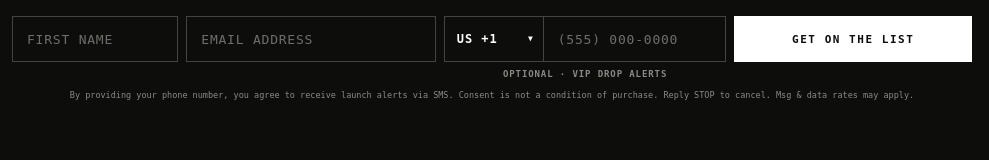
LeadForm › formats the mobile as it is typed
Type "4155550123" into the field named "mobile number" at (635, 39), box [544,17,725,61]
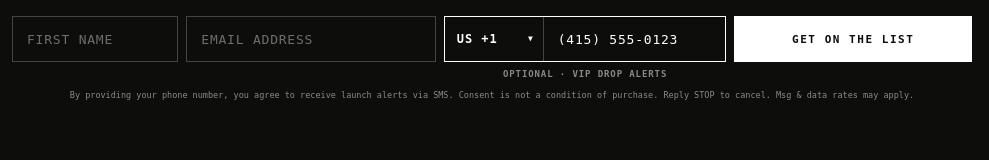
Now the field named "mobile number" holds "(415) 555-0123", box [544,17,725,61]
